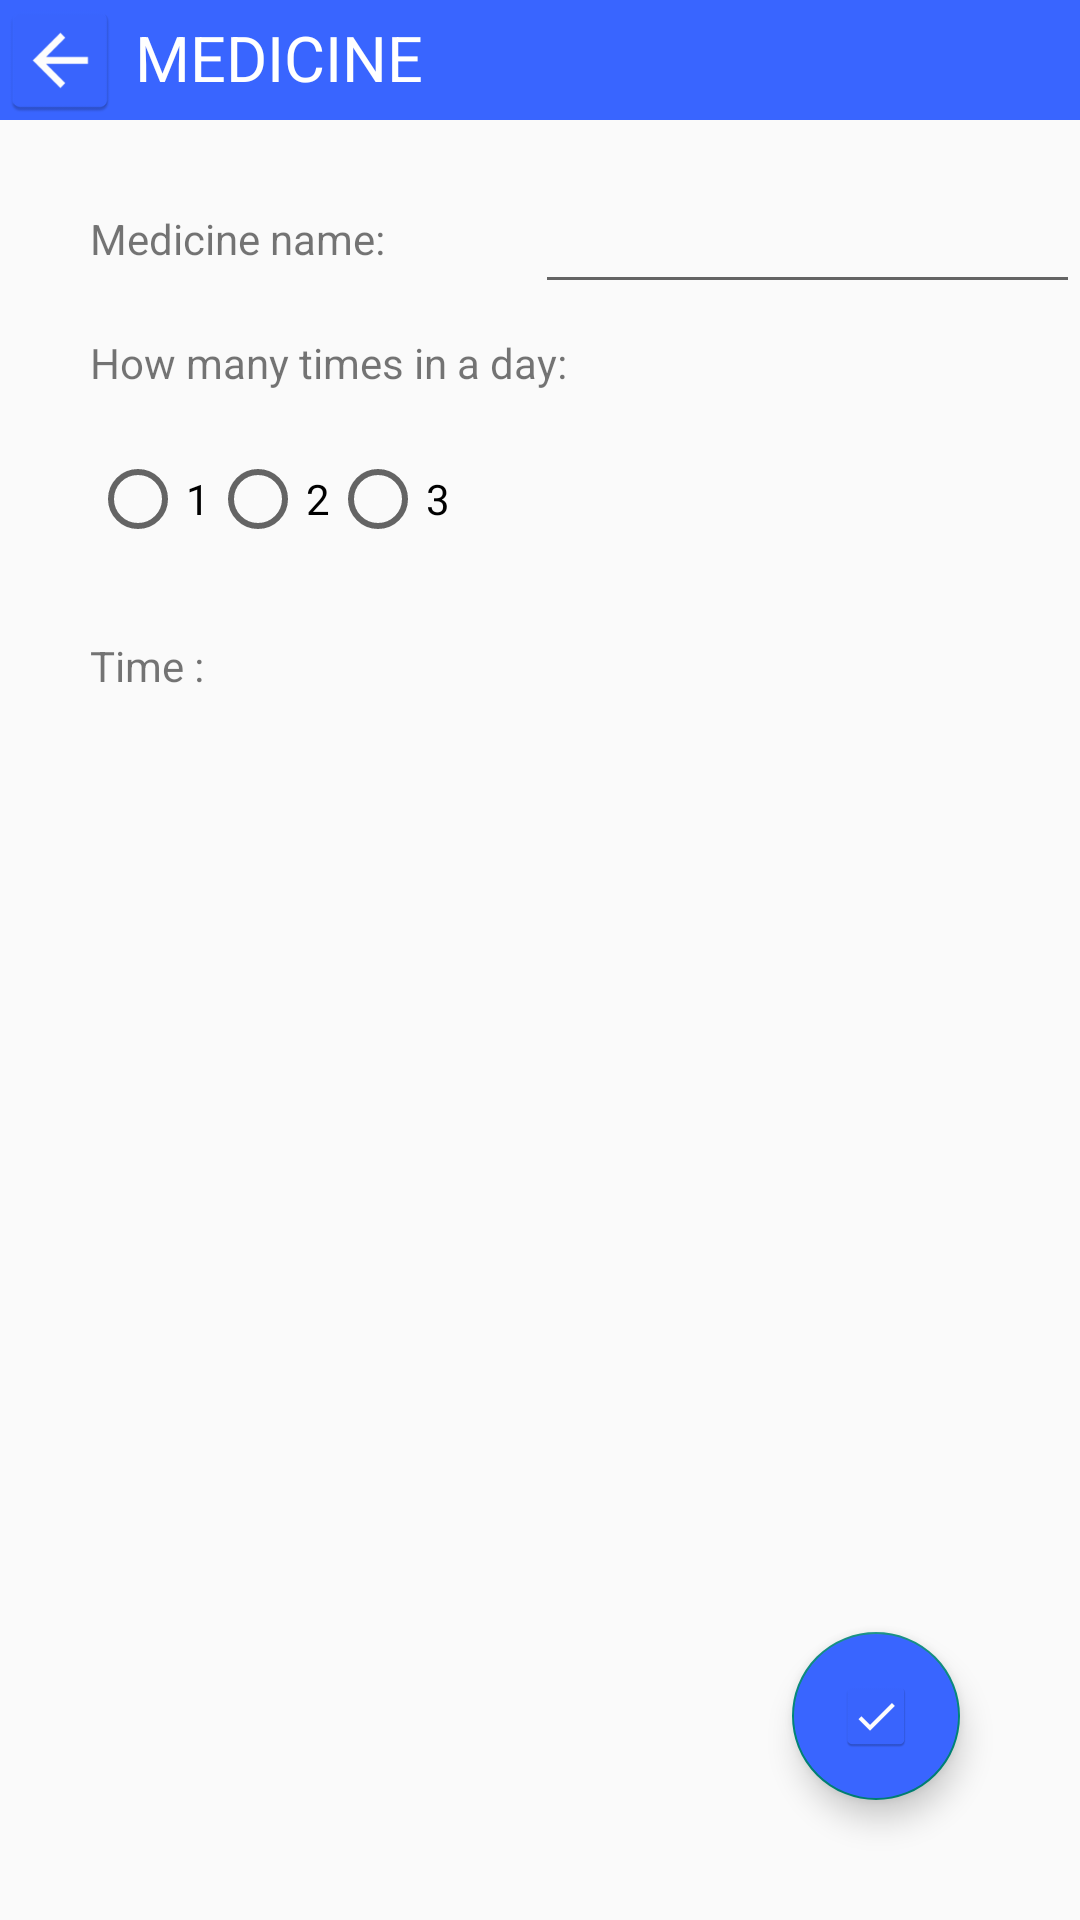

Screen size 1080 × 1920. Icon name, then its box in pixels as box(x1, y1, x2, y2):
back: box(13, 20, 108, 111)
check: box(792, 1632, 960, 1800)
